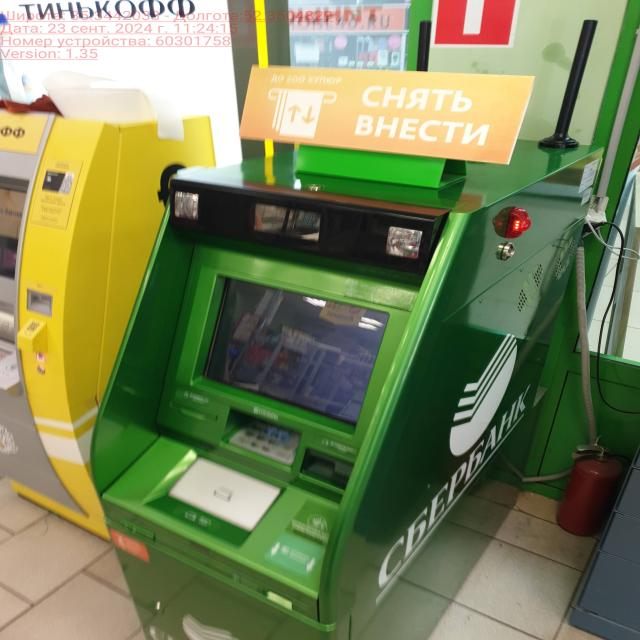bank: (89, 68, 610, 640)
